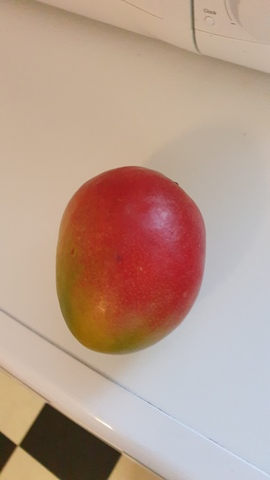Mango: (55, 166, 206, 355)
